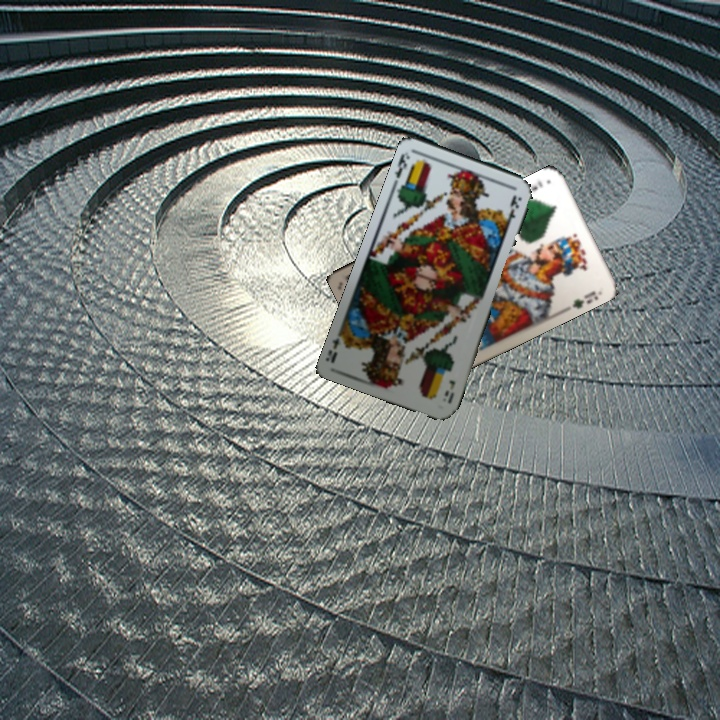EK: (391, 148, 412, 181), (440, 376, 458, 406)
